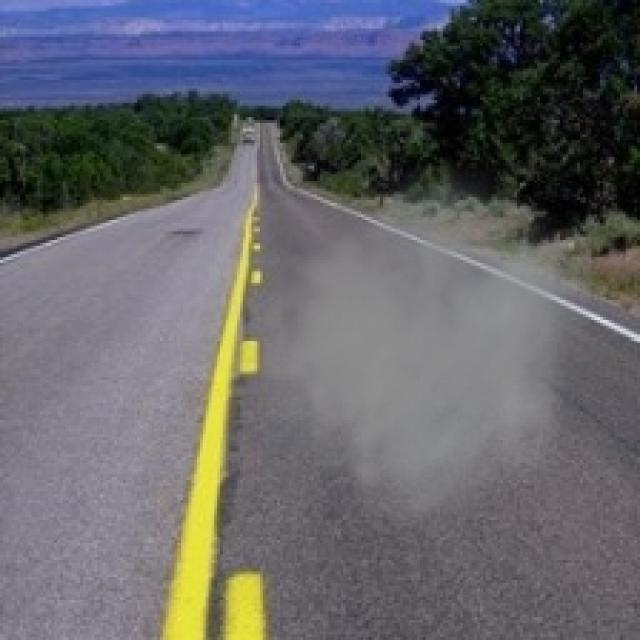smoke: (217, 151, 592, 546)
